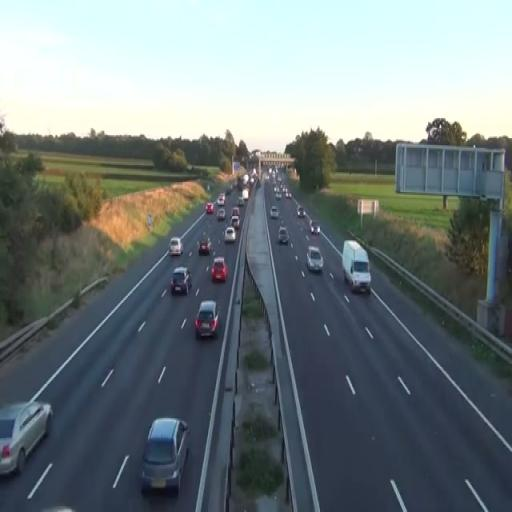Car: (0, 400, 53, 478), (140, 417, 190, 496), (194, 301, 220, 339), (170, 267, 192, 296), (306, 245, 324, 274), (210, 256, 228, 284), (169, 237, 184, 257), (198, 238, 211, 256), (230, 206, 240, 229), (224, 225, 236, 244), (278, 226, 290, 245), (216, 206, 226, 220), (270, 206, 279, 220)
Truck: (342, 240, 372, 294)
